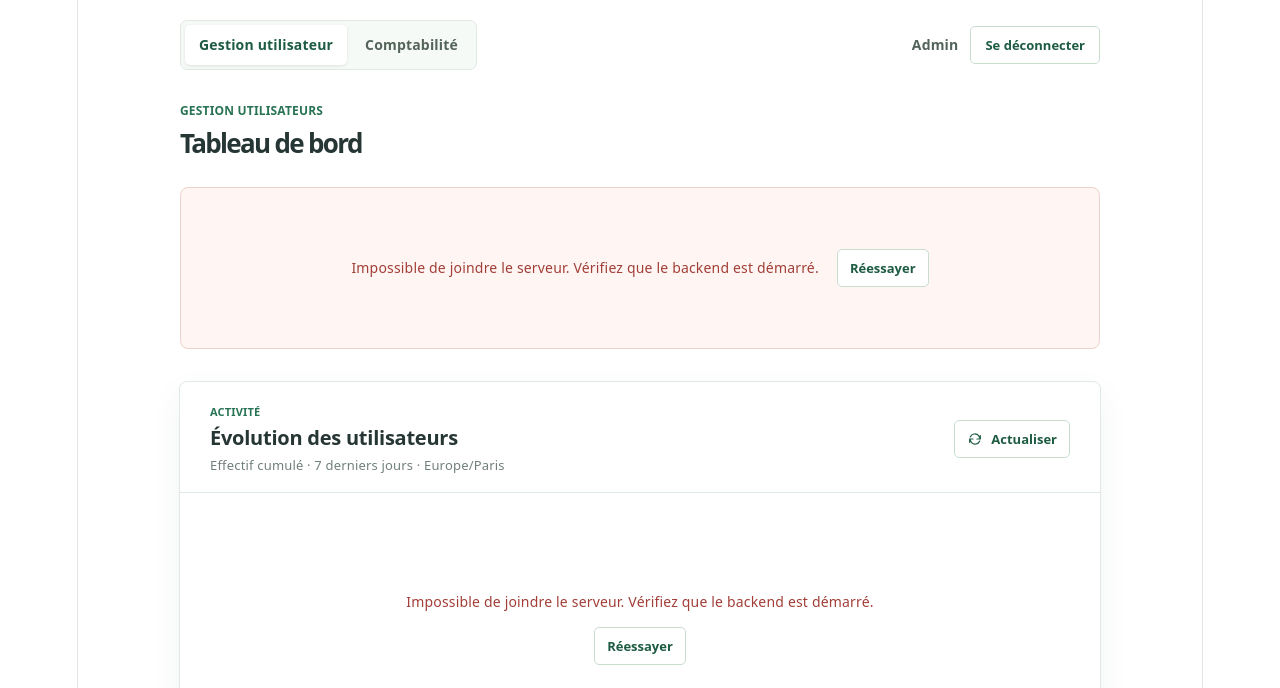
Test: DashboardView › reste sur le dashboard et affiche l’erreur si la déconnexion échoue
The width and height of the screenshot is (1280, 688).
What coordinates should you click on to do the following:
click the button with class "logout-button"
I would click on:
 (1035, 45)
Its box is [970,26,1100,64].
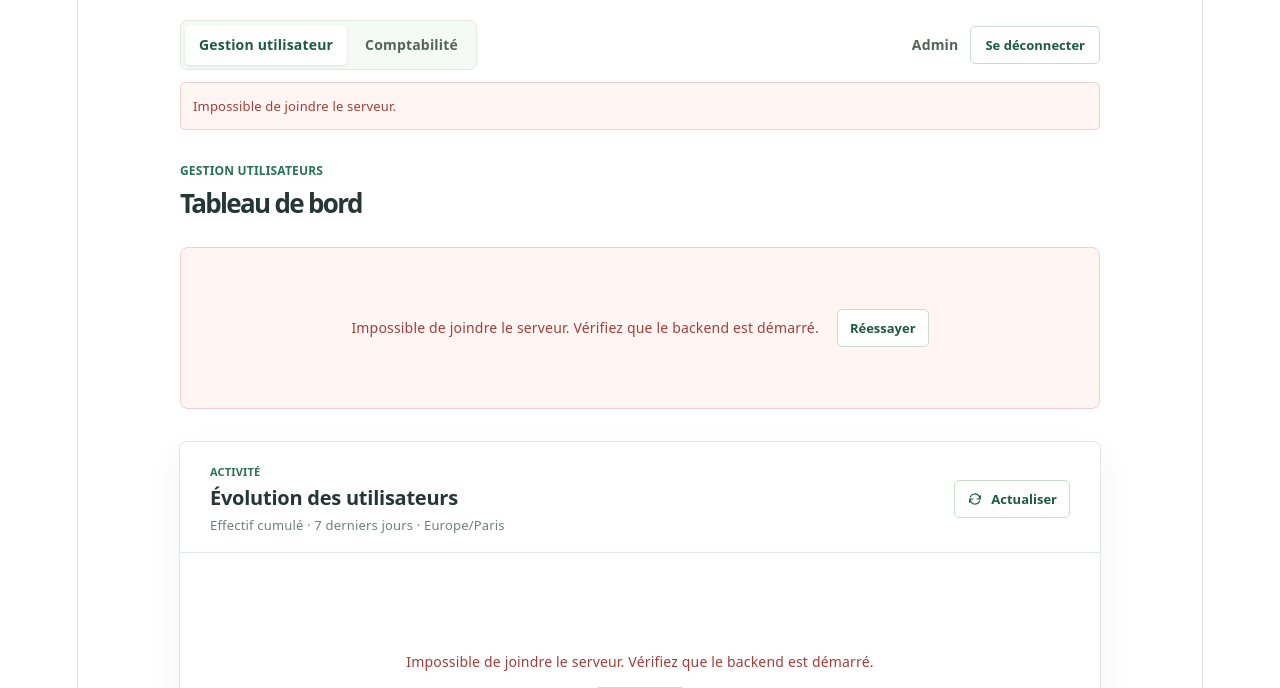
Now the message with class "logout-error" reads "Impossible de joindre le serveur.", box [193,97,396,115]
